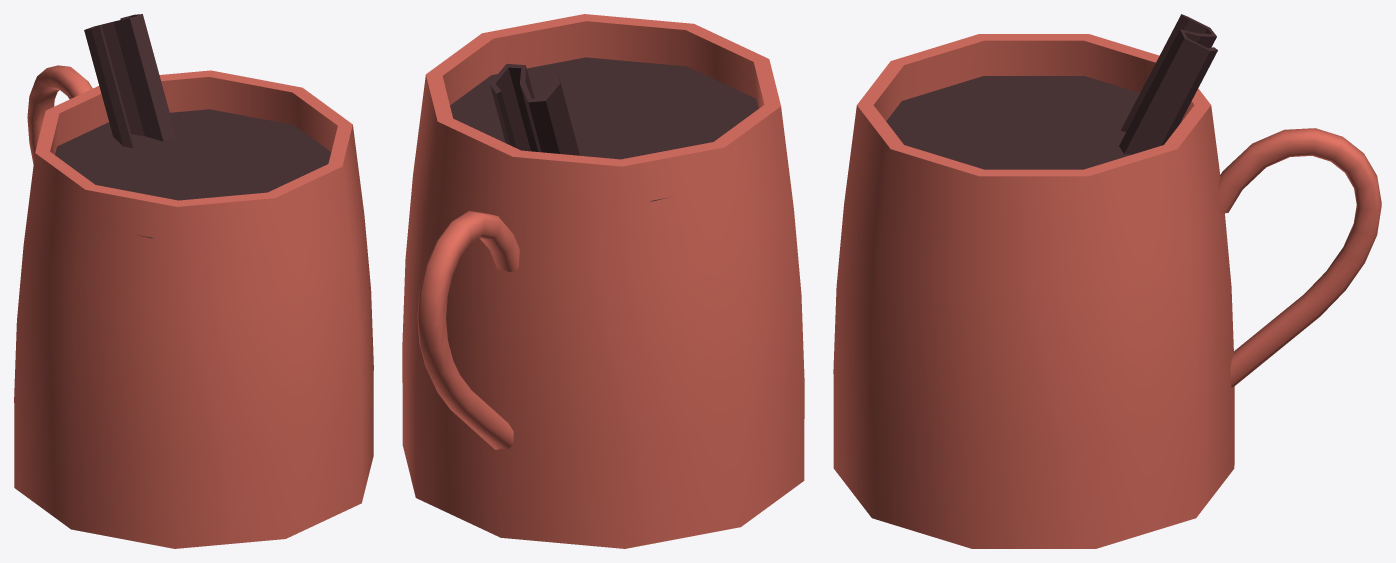
Rendered from SM_Hot_Chocolate.fbx.
3 views of the same model, side by side, from view 1: azimuth 30°, elevation 25°; view 2: azimuth 150°, elevation 25°; view 3: azimuth 270°, elevation 25° (orthographic). The views are drawn at different scales.
Visible parts, largest first — view 1: Cylinder.015, Plane.049, Plane.050, NurbsPath.001; view 2: Cylinder.015, Plane.049, NurbsPath.001, Plane.050; view 3: Cylinder.015, Plane.049, NurbsPath.001, Plane.050.
Part boxes in pixels (bbox=[...]): Cylinder.015: bbox=[14, 70, 373, 548]; Plane.049: bbox=[55, 109, 331, 238]; Plane.050: bbox=[84, 14, 175, 148]; NurbsPath.001: bbox=[27, 65, 92, 164]; Cylinder.015: bbox=[402, 14, 804, 548]; Plane.049: bbox=[450, 57, 758, 201]; NurbsPath.001: bbox=[417, 211, 519, 449]; Plane.050: bbox=[490, 63, 579, 155]; Cylinder.015: bbox=[833, 34, 1234, 548]; Plane.049: bbox=[886, 76, 1181, 169]; NurbsPath.001: bbox=[1218, 128, 1381, 387]; Plane.050: bbox=[1119, 14, 1217, 154].
Size of the model in its own units: 22.04 by 28.08 by 31.65.
